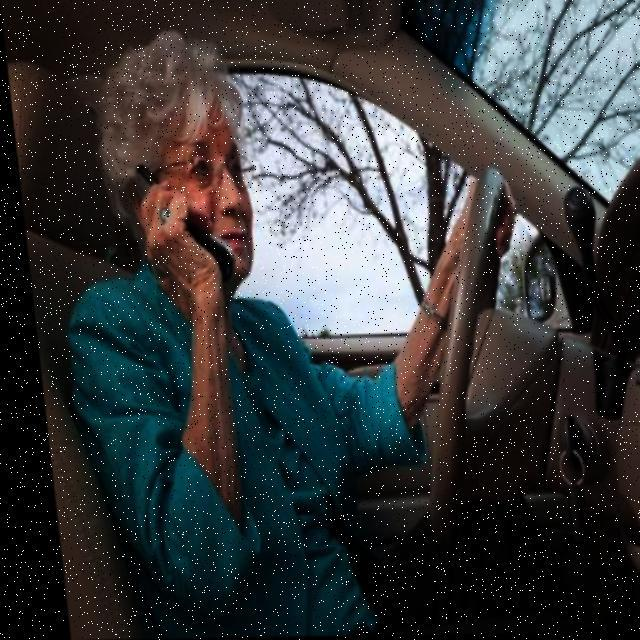noSeatbelt: (39, 256, 341, 636)
